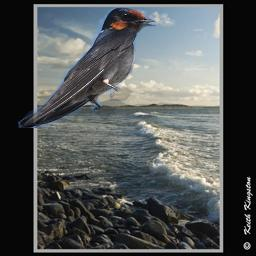Swallow: (18, 7, 156, 128)
